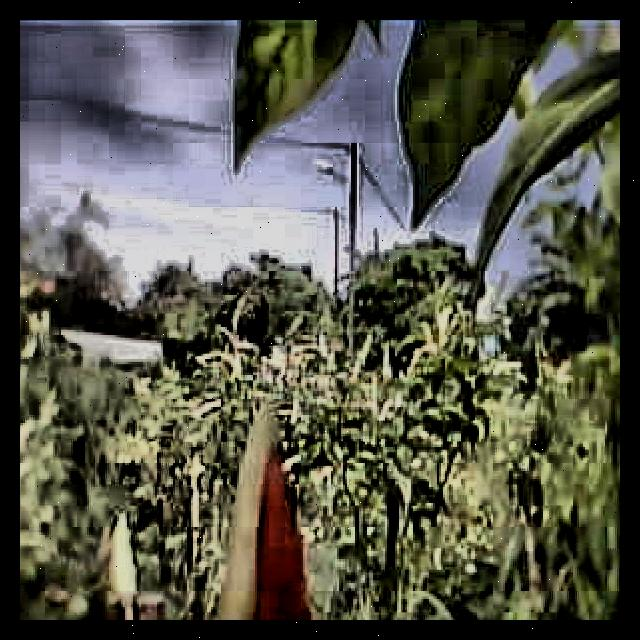Cabai: (252, 448, 314, 620)
